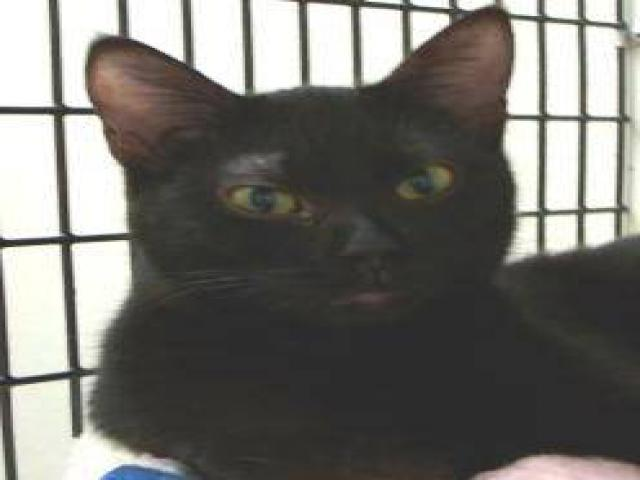cat: (66, 12, 633, 454)
